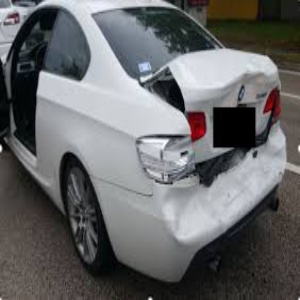bonnet: (165, 48, 285, 103)
